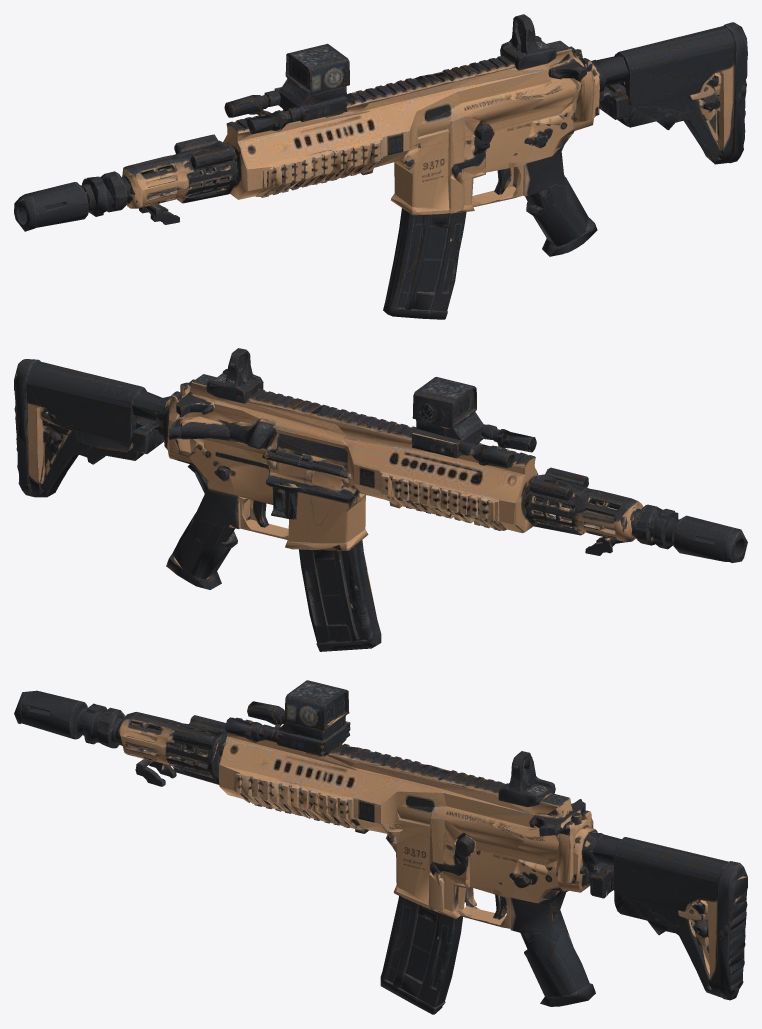
Rendered from rifle.glb.
3 renders of one model, top to bottom at view 1: azimuth 30°, elevation 25°; view 2: azimuth 150°, elevation 25°; view 3: azimuth 330°, elevation 25°, orthographic.
Size of the model in its own units: 1.9 by 0.7324 by 0.2019.
Materials: 1 (1 with a texture image).
